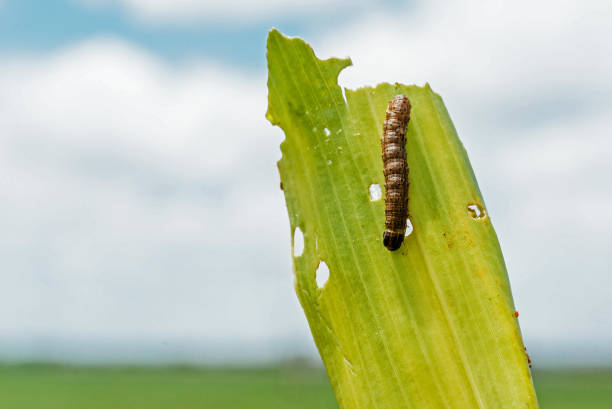Armyworm: (369, 87, 423, 266)
